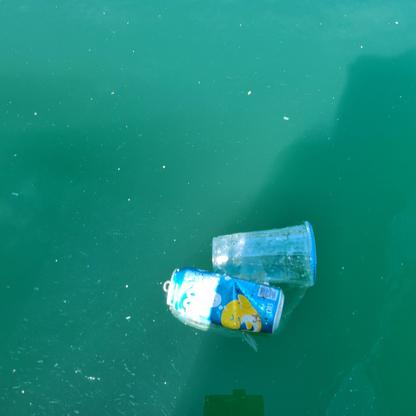can: (161, 263, 283, 335)
